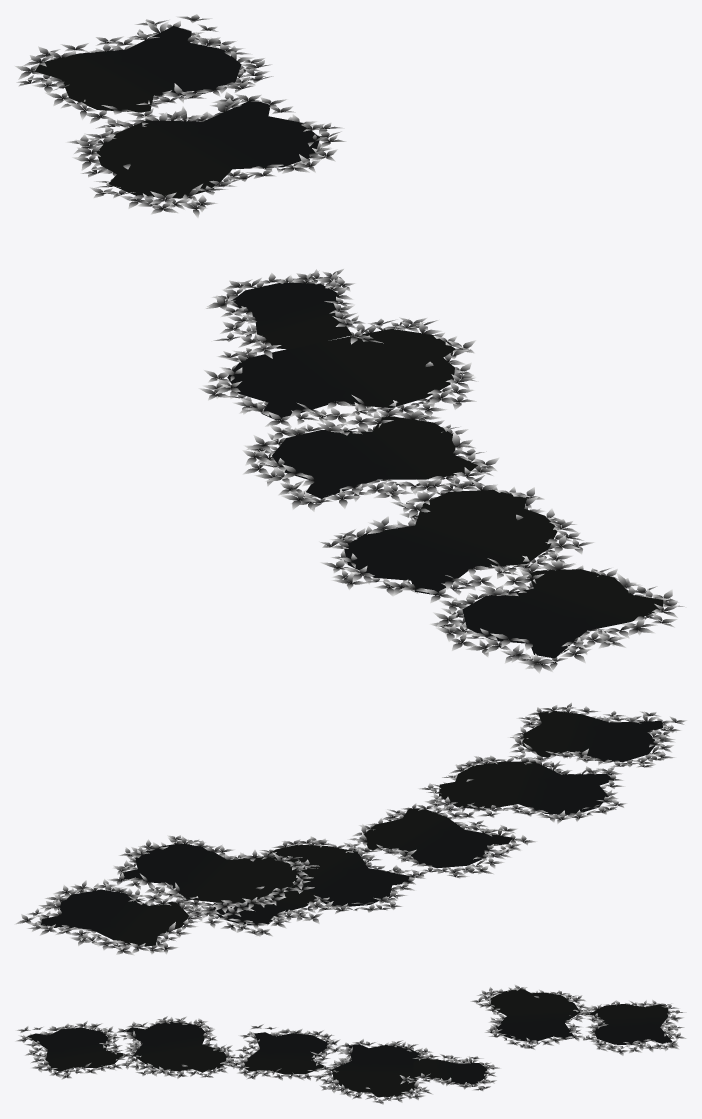
Rendered from SM_ENV_KNFRST_LeafShadow_GroupJ.FBX.
3 renders of one model, top to bottom at view 1: azimuth 30°, elevation 25°; view 2: azimuth 150°, elevation 25°; view 3: azimuth 270°, elevation 25°, orthographic. The views are drawn at different scales.
Visible parts, largest first — view 1: SM_ENV_KNFRST_LeafShadow_GroupJ; view 2: SM_ENV_KNFRST_LeafShadow_GroupJ; view 3: SM_ENV_KNFRST_LeafShadow_GroupJ.
Part boxes in pixels (x1,y1,x2,y2): SM_ENV_KNFRST_LeafShadow_GroupJ: (14, 14, 686, 673); SM_ENV_KNFRST_LeafShadow_GroupJ: (14, 702, 687, 955); SM_ENV_KNFRST_LeafShadow_GroupJ: (15, 984, 686, 1104).
Size of the model in its own units: 1324 by 434 by 3978.
